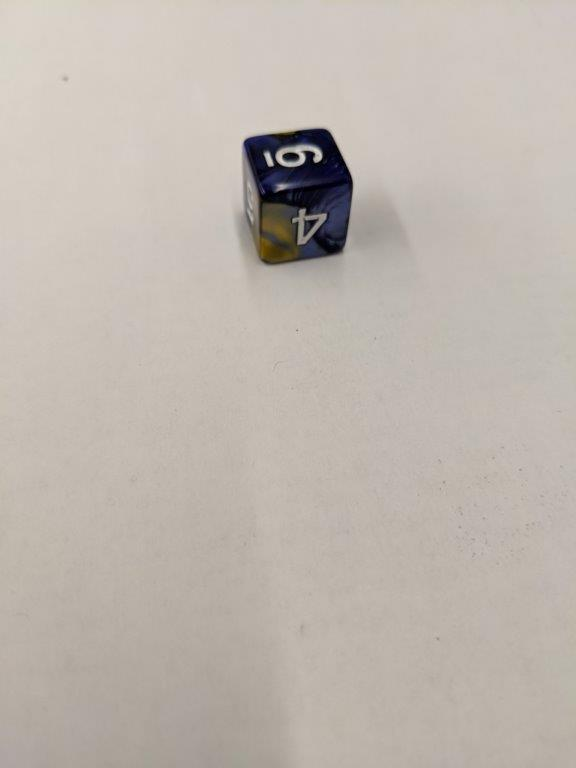d6-6: (240, 126, 352, 266)
